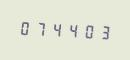four: (63, 19, 77, 40), (48, 19, 62, 39)
seven: (32, 18, 46, 39)
three: (93, 21, 107, 42)
zero: (17, 17, 31, 38), (78, 20, 92, 41)
